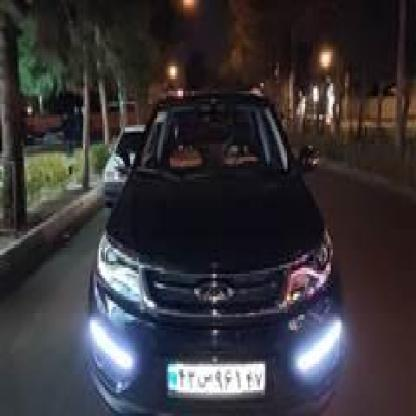Car: (93, 80, 343, 416), (99, 120, 146, 202)
